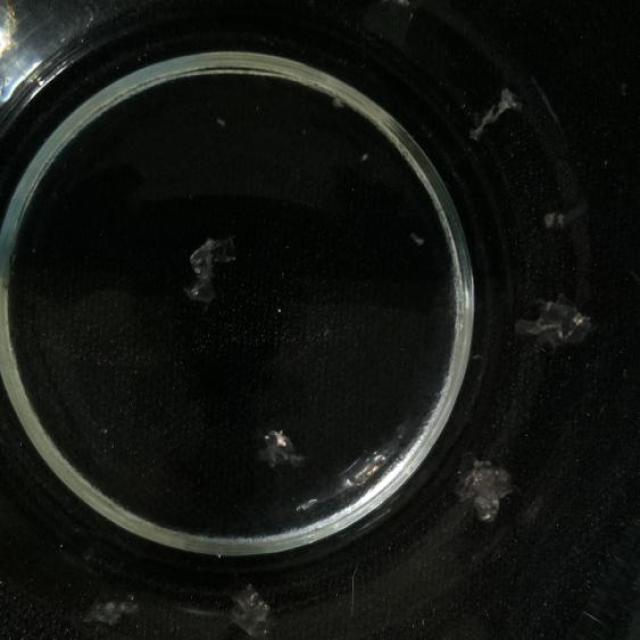fiber: (512, 289, 598, 354), (450, 448, 520, 525), (469, 76, 527, 146), (187, 235, 238, 309), (366, 0, 422, 57), (224, 580, 277, 640), (88, 590, 144, 640), (538, 194, 598, 234), (254, 431, 305, 471)
